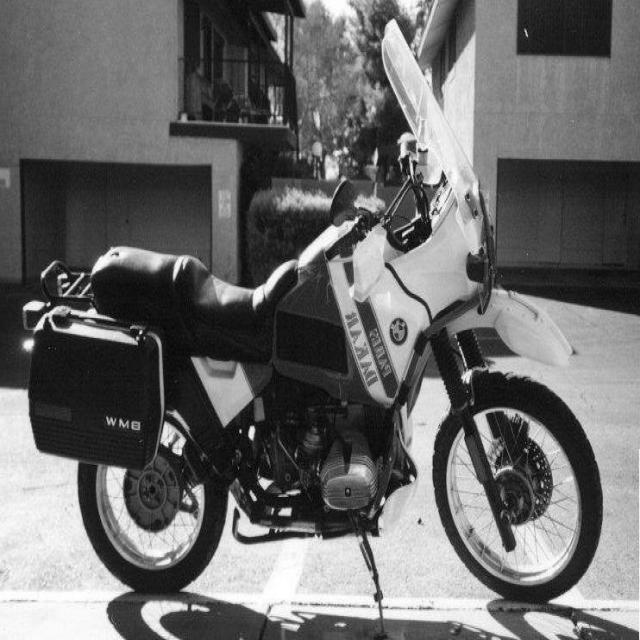Motorcycle: (18, 25, 600, 608)
